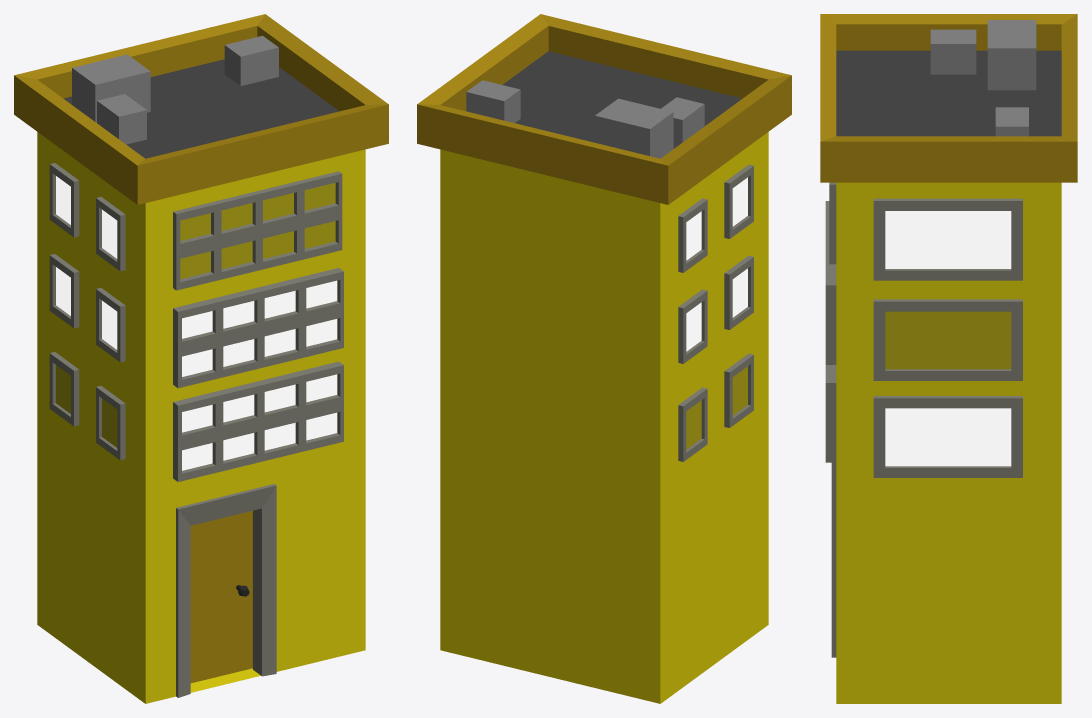
File: prop_building.glb
3 views of the same model, side by side, from view 1: azimuth 30°, elevation 25°; view 2: azimuth 150°, elevation 25°; view 3: azimuth 270°, elevation 25° (orthographic). The views are drawn at different scales.
Visible parts, largest first — view 1: building3; view 2: building3; view 3: building3.
Boxes of the visible parts, <box> form: building3: <box>14,14,388,703</box>; building3: <box>417,14,791,703</box>; building3: <box>820,14,1077,703</box>.
Size of the model in its own units: 7.5 by 15.99 by 6.39.
